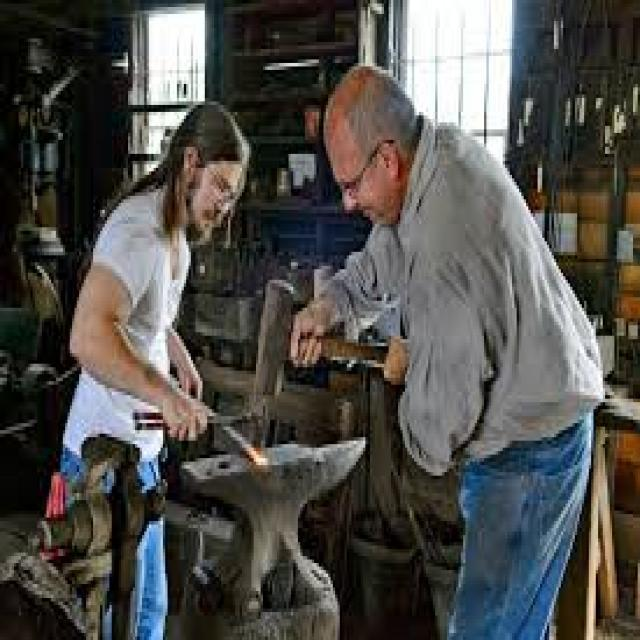hammer: (249, 271, 405, 411)
